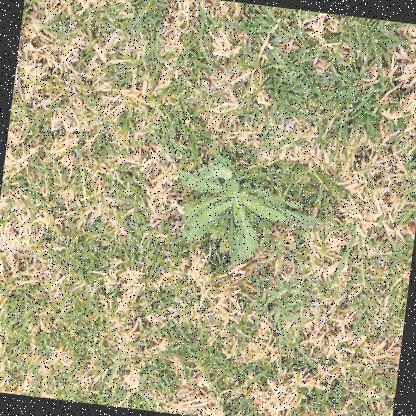Weeds: (164, 145, 329, 274)
